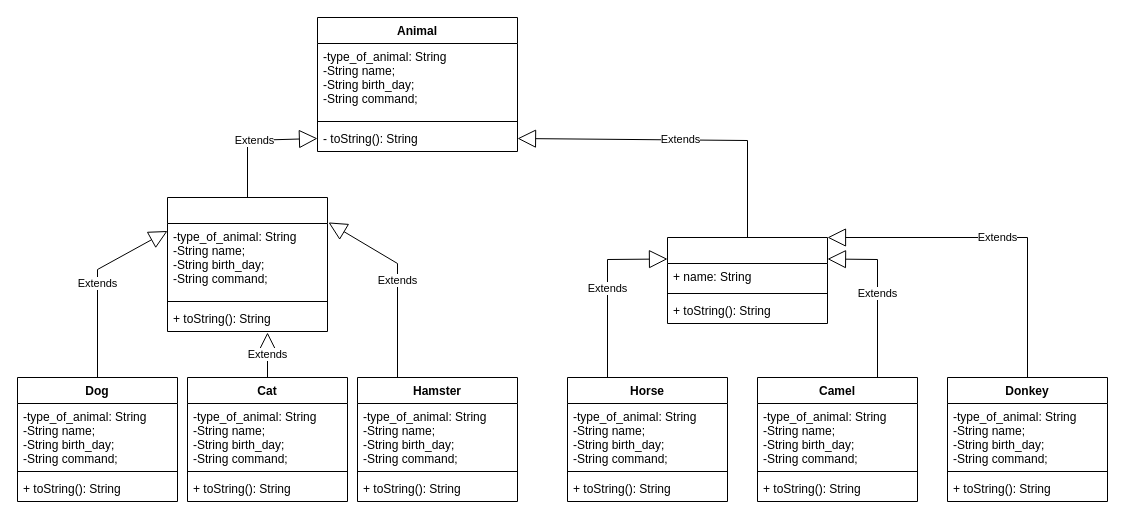
Some shapes in this 1125 by 522 pixel diagram are drawn without their labels. Each missing label, with the box of its shape:
Pack_Animals: (666, 236, 828, 324)
Pets: (166, 196, 328, 332)
